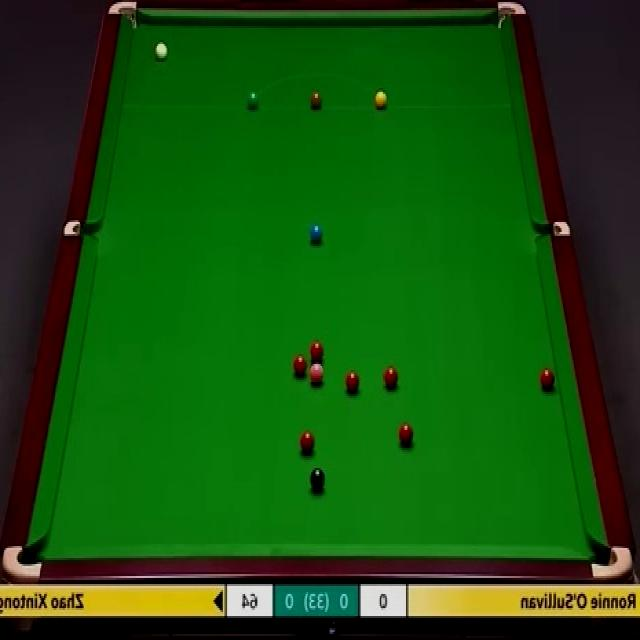black-ball: (310, 465, 325, 492)
blue-ball: (310, 223, 323, 245)
brown-ball: (310, 93, 322, 110)
green-ball: (247, 90, 258, 110)
pink-ball: (311, 362, 327, 387)
red-ball: (383, 364, 400, 391), (344, 369, 362, 394), (398, 422, 414, 449), (292, 354, 308, 379), (300, 430, 316, 455), (539, 367, 555, 390), (309, 341, 326, 361)
white-ball: (154, 38, 169, 62)
yellow-ball: (375, 89, 389, 110)
